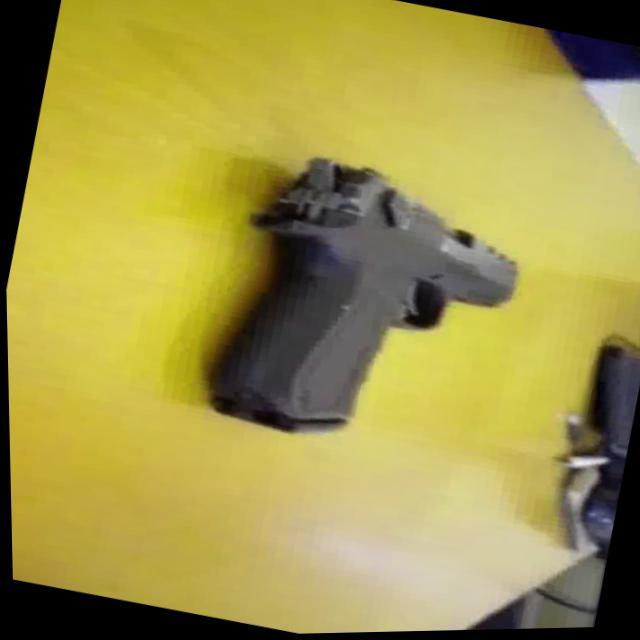weapon: (194, 137, 538, 476)
